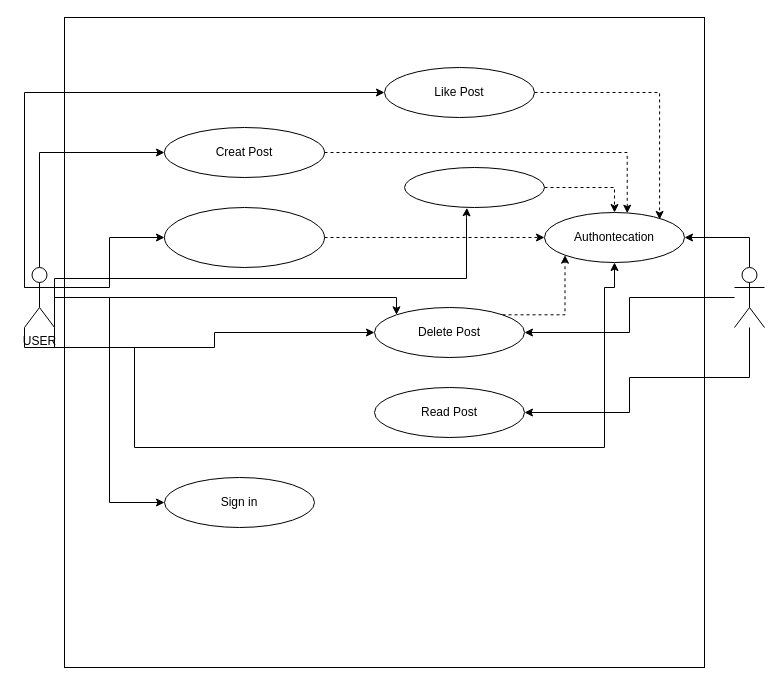
The diagram is 784 pixels wide and 685 high, and some of its shapes have lost their labels. The shapes that lost their labels are listed below. From the top down, each one's box as (x1, y1, x2, y2) in pixels, then its label:
(404, 166, 544, 208): Comment Post
(164, 206, 324, 268): Update Post
(734, 266, 764, 328): Admin
